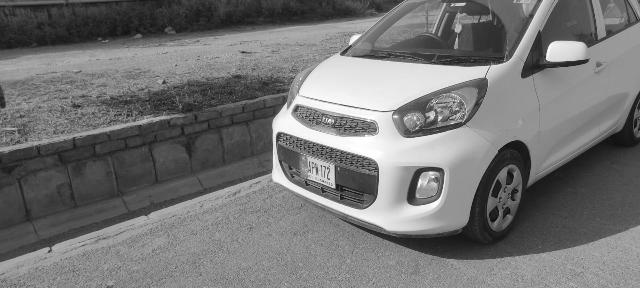Number: (306, 160, 332, 181)
